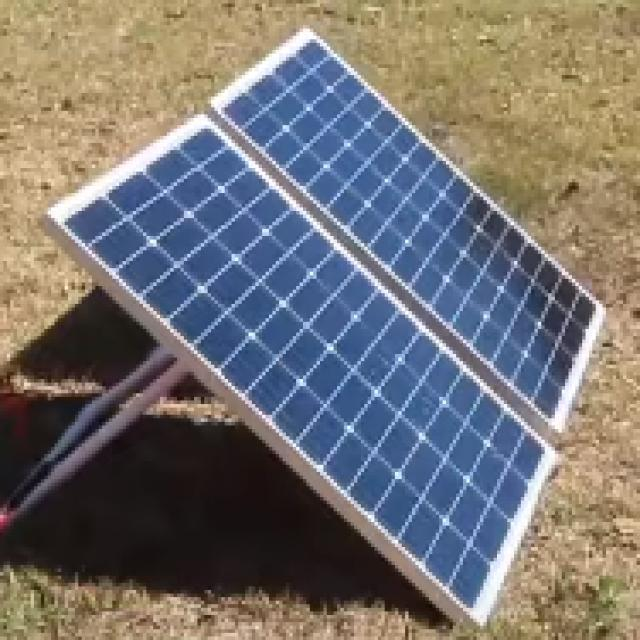Normal Solar Panel: (48, 32, 606, 617)
